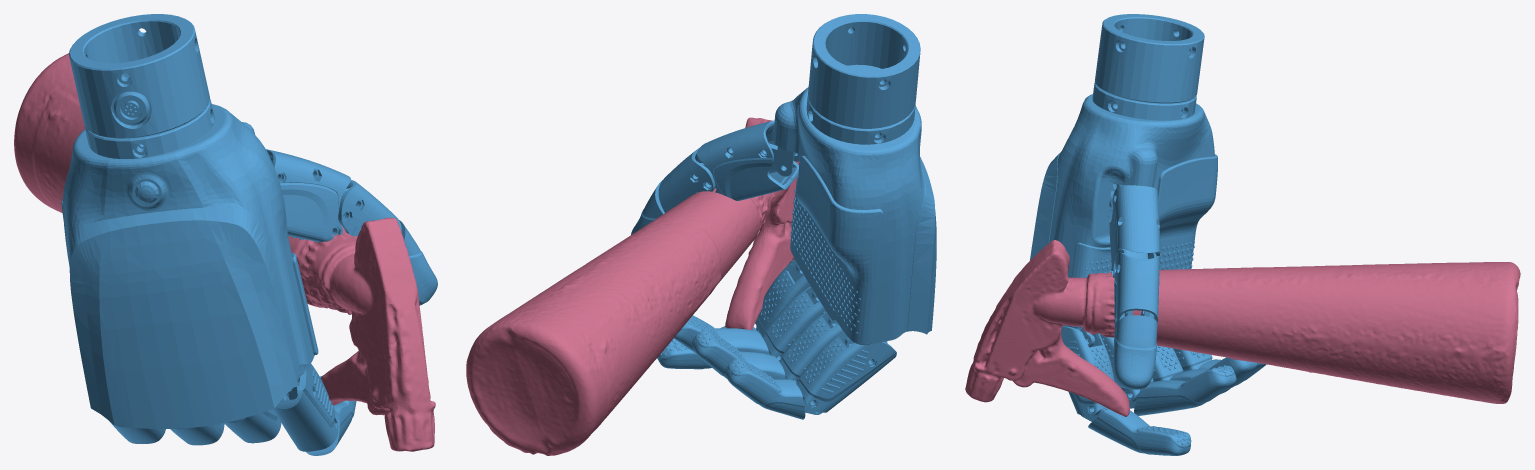
The picture shows the model from 3 angles, left to right: view 1: azimuth 30°, elevation 25°; view 2: azimuth 150°, elevation 25°; view 3: azimuth 270°, elevation 25°; orthographic projection. The views are drawn at different scales.
Visible parts, largest first — view 1: 7; view 2: 7; view 3: 7.
Part boxes in pixels (x1,y1,x2,y2): 7: (14,14,437,455); 7: (466,14,936,455); 7: (965,14,1520,455).
Bounding box in the file's own units: 0.1618 × 0.1901 × 0.2685.
